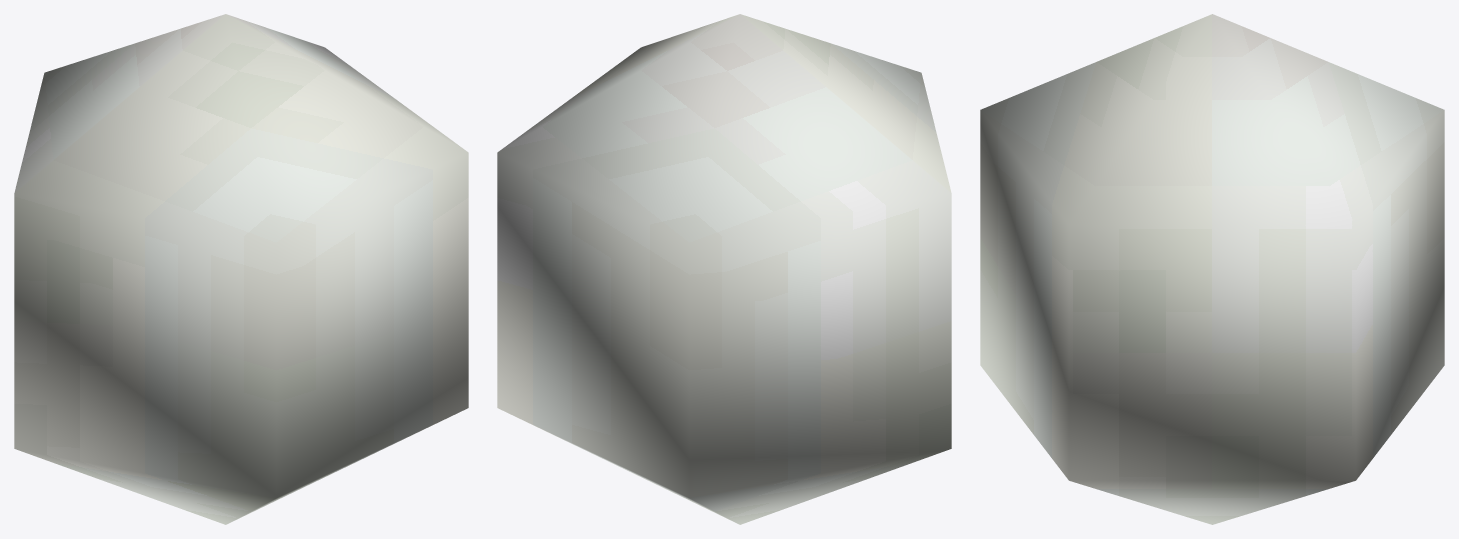
The model's file is dragon_pearl_l2.fbx.
The picture shows the model from 3 angles, left to right: view 1: azimuth 30°, elevation 25°; view 2: azimuth 150°, elevation 25°; view 3: azimuth 270°, elevation 25°; orthographic projection.
Parts seen in each view (by area): view 1: mesh_node; view 2: mesh_node; view 3: mesh_node.
Boxes of the visible parts, x1,y1,x2,y2 form: mesh_node: [14, 14, 468, 524]; mesh_node: [497, 14, 951, 524]; mesh_node: [980, 14, 1444, 524].
Size of the model in its own units: 0.1912 by 0.2441 by 0.201.
